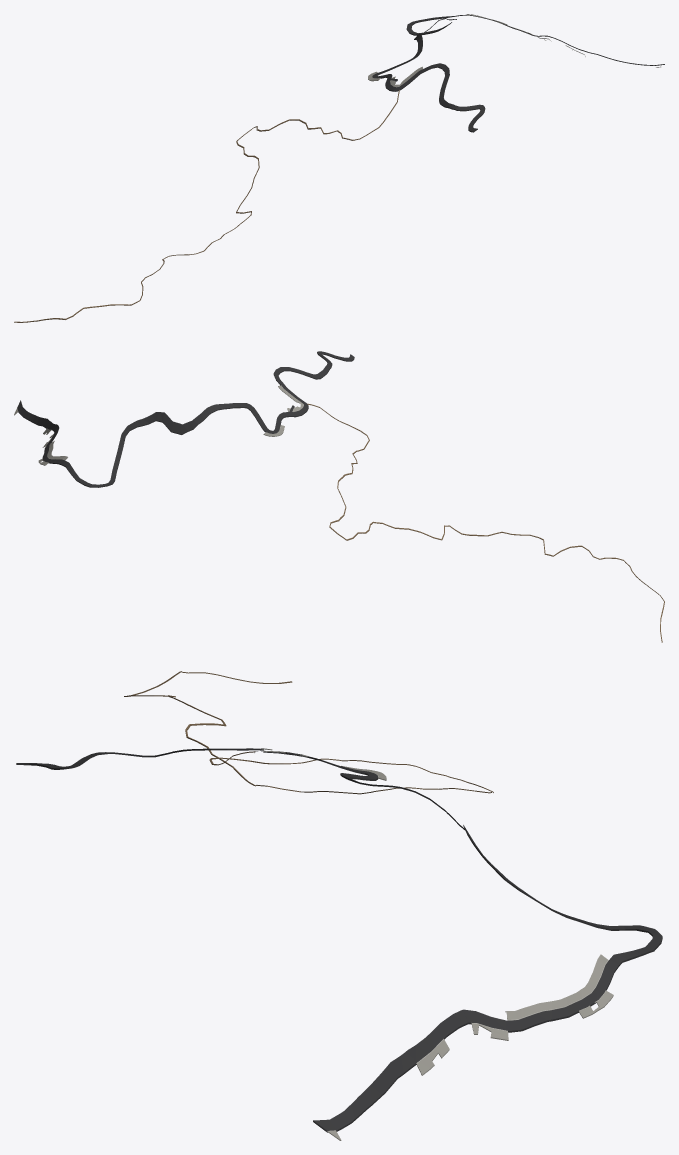
3 renders of one model, top to bottom at view 1: azimuth 30°, elevation 25°; view 2: azimuth 150°, elevation 25°; view 3: azimuth 270°, elevation 25°, orthographic. The views are drawn at different scales.
Size of the model in its own units: 970 by 238 by 427.
